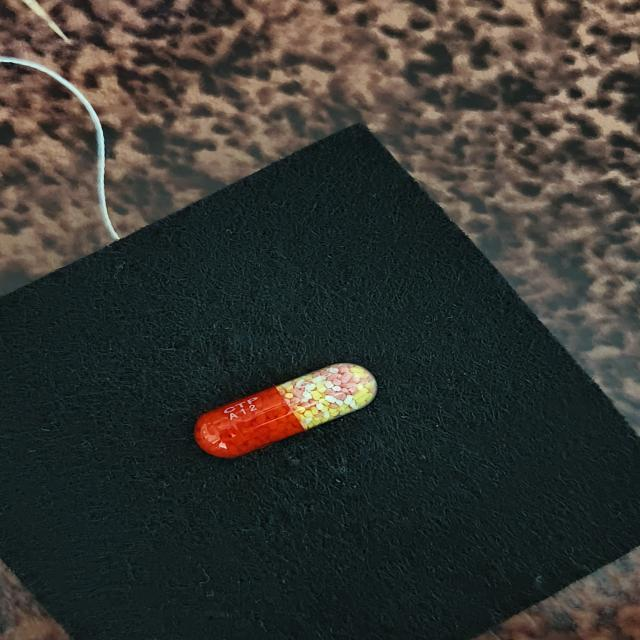Intact Capsule: (194, 363, 377, 458)
